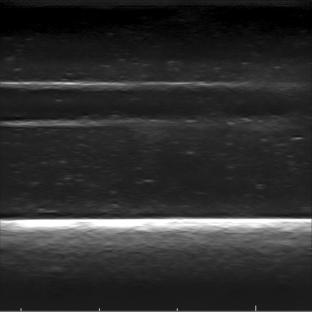vessel: (0, 79, 223, 131)
